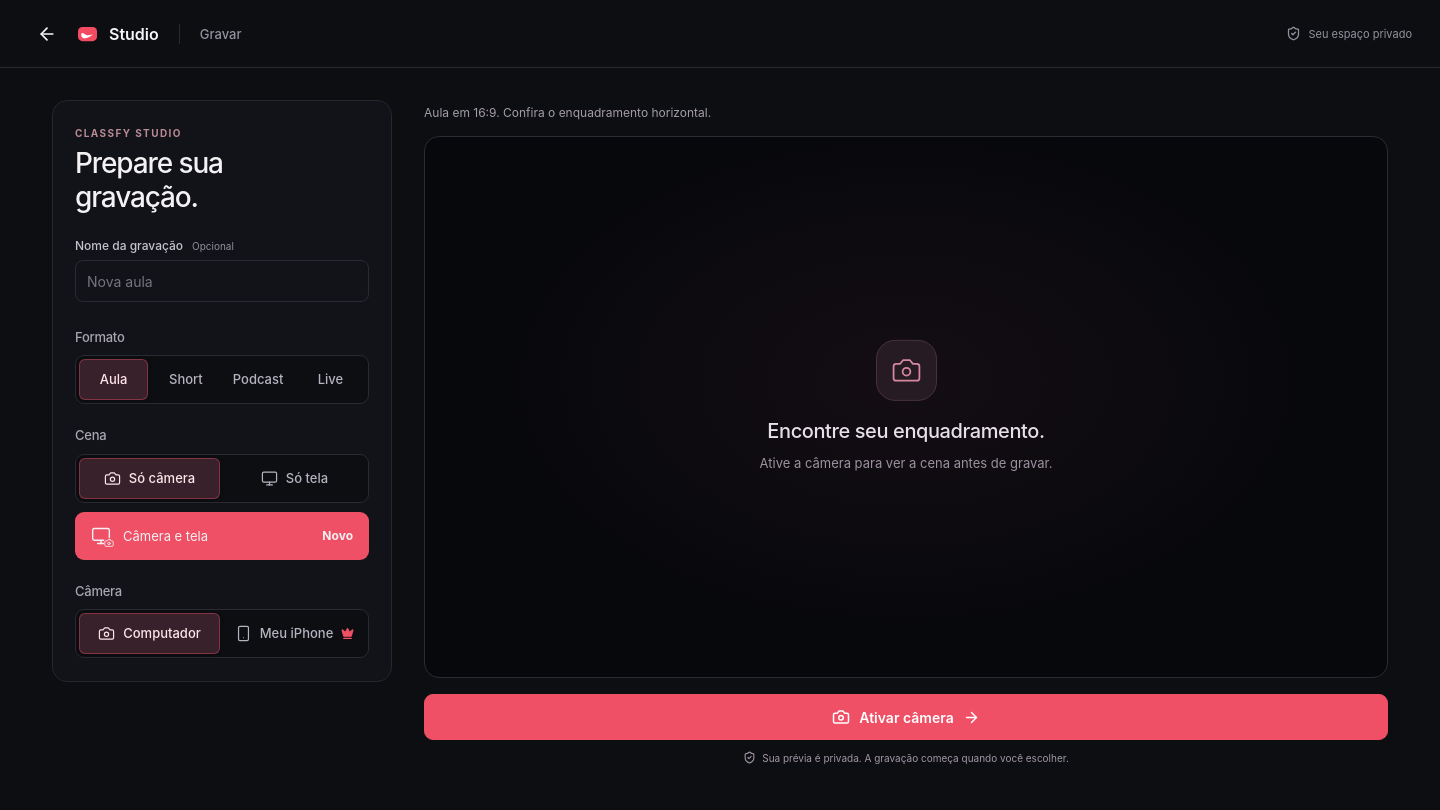
Test case: produção Premium com Workspace e controller de cenas reais › escolher e abandonar cenas na preparação não abre nenhuma fonte nem cria take
Click the button "Câmera e tela Novo": coordinates (166, 536) [75,512,369,560]
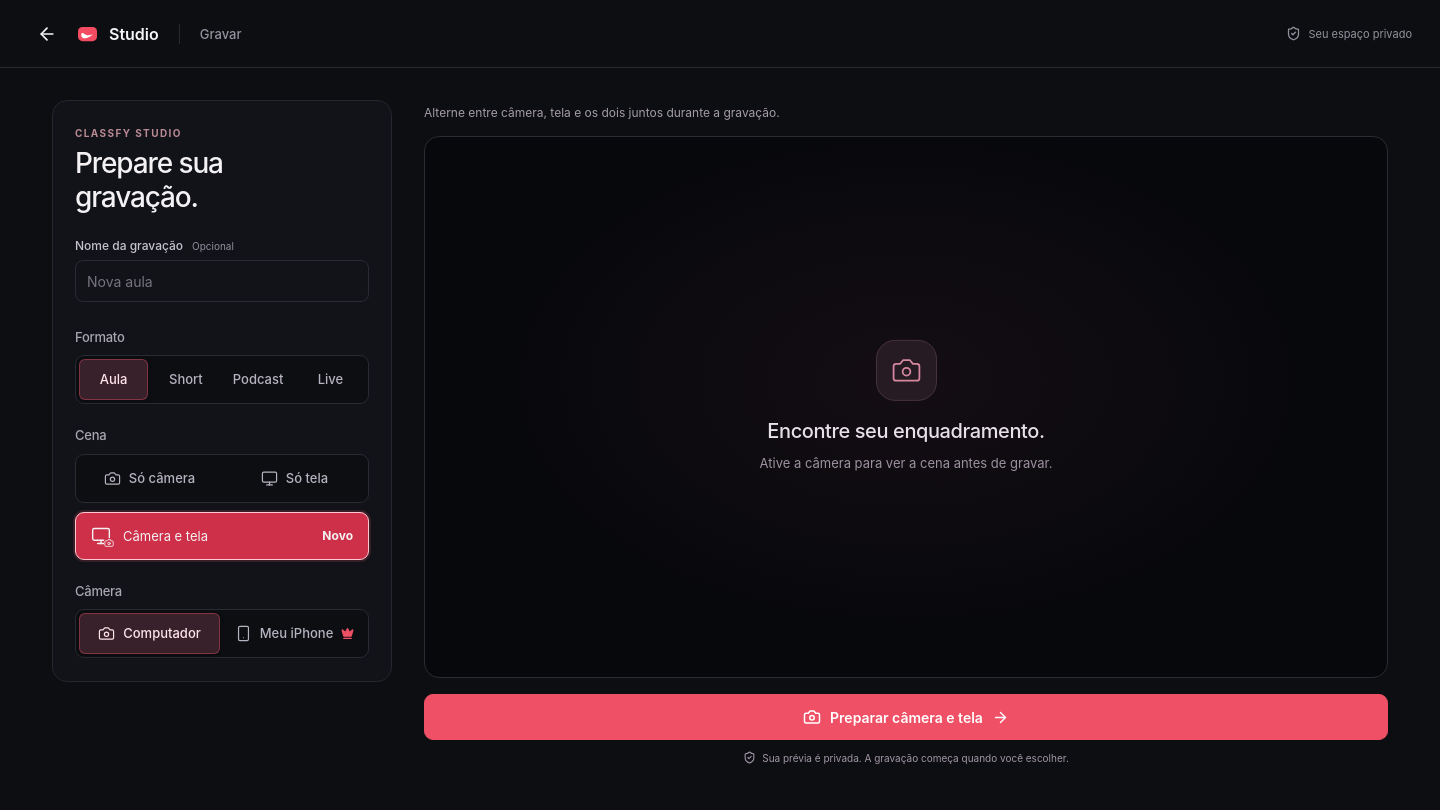
Expected: the button "Preparar câmera e tela" is shown, [424,694,1388,740]
Click the button named "Voltar aos projetos": coordinates (47, 34) [28,14,66,52]
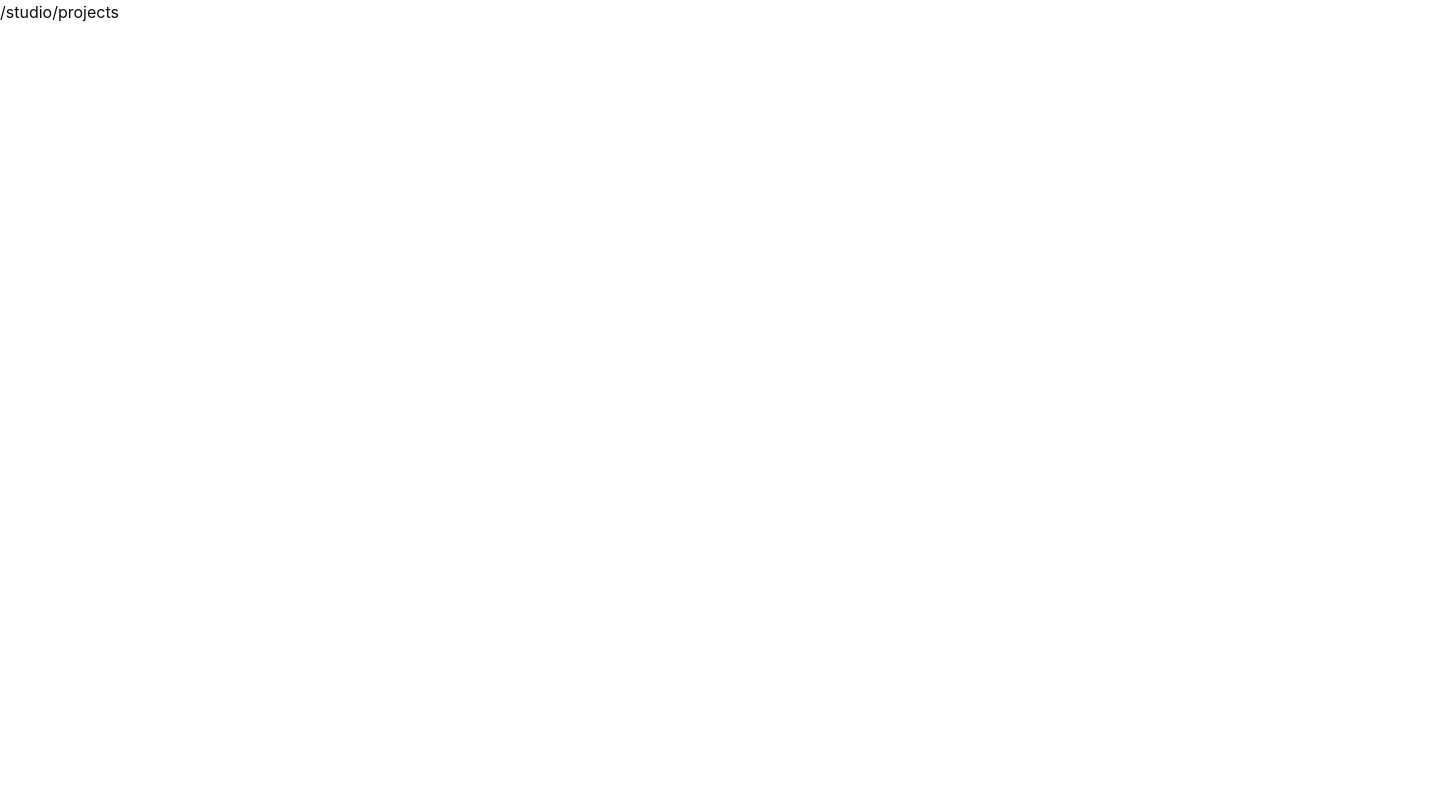
Expected: the text "/studio/projects" is shown, [0,2,119,22]
